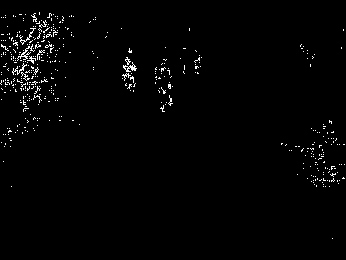person: (150, 56, 180, 114)
